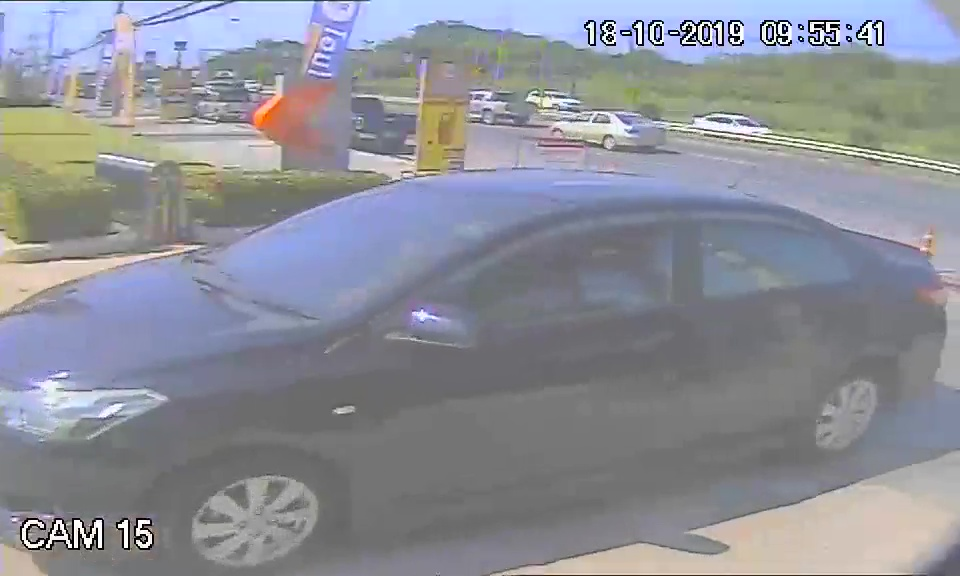sedan: (8, 170, 754, 547)
